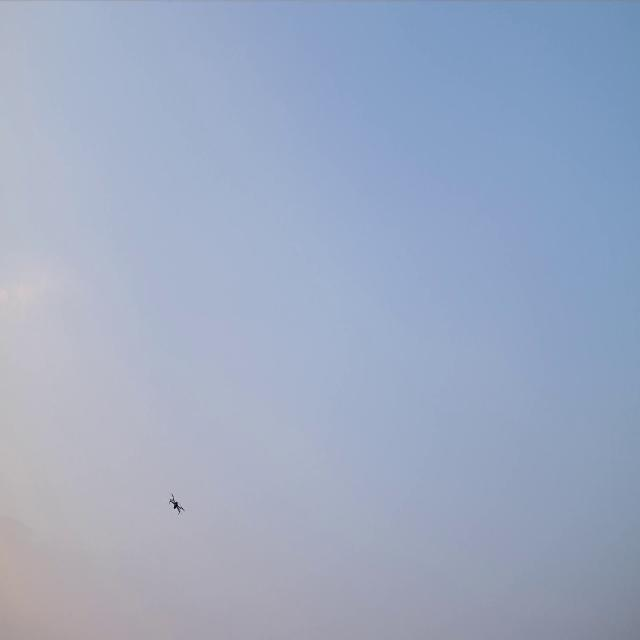UAV: (166, 492, 186, 516)
